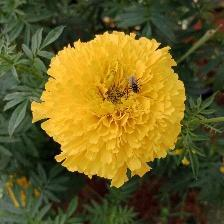marigold: (44, 31, 187, 189)
